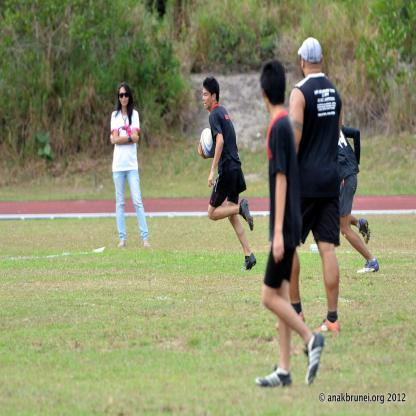Ball: (200, 127, 213, 161)
